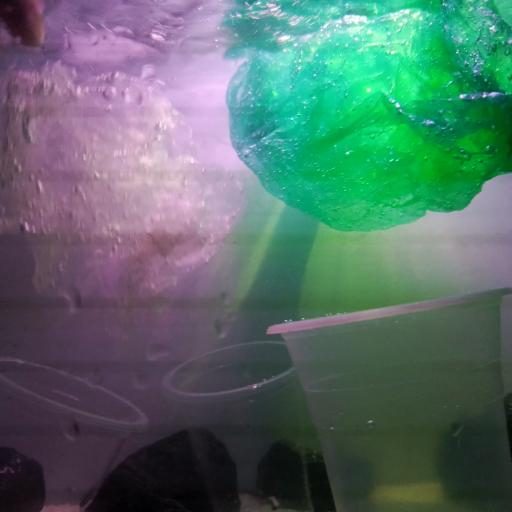plastic_bag: (224, 8, 512, 236), (2, 50, 243, 302)
plastic_cup: (264, 282, 512, 510), (162, 337, 317, 512), (2, 355, 150, 512)
